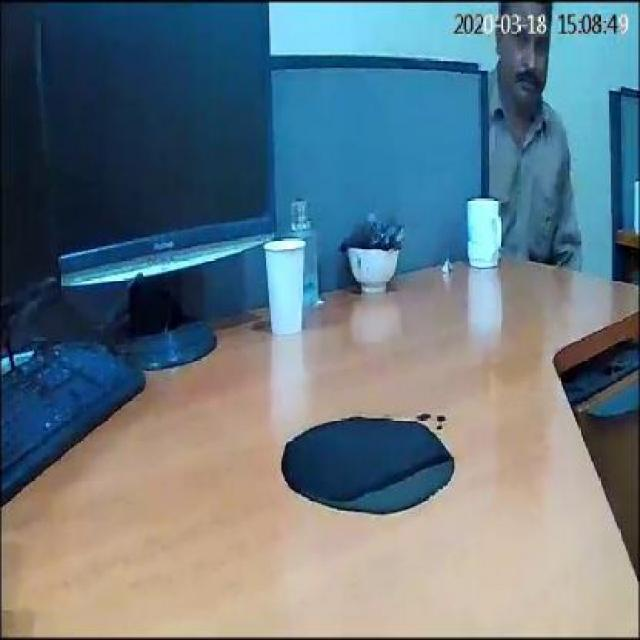spill: (278, 414, 450, 514)
